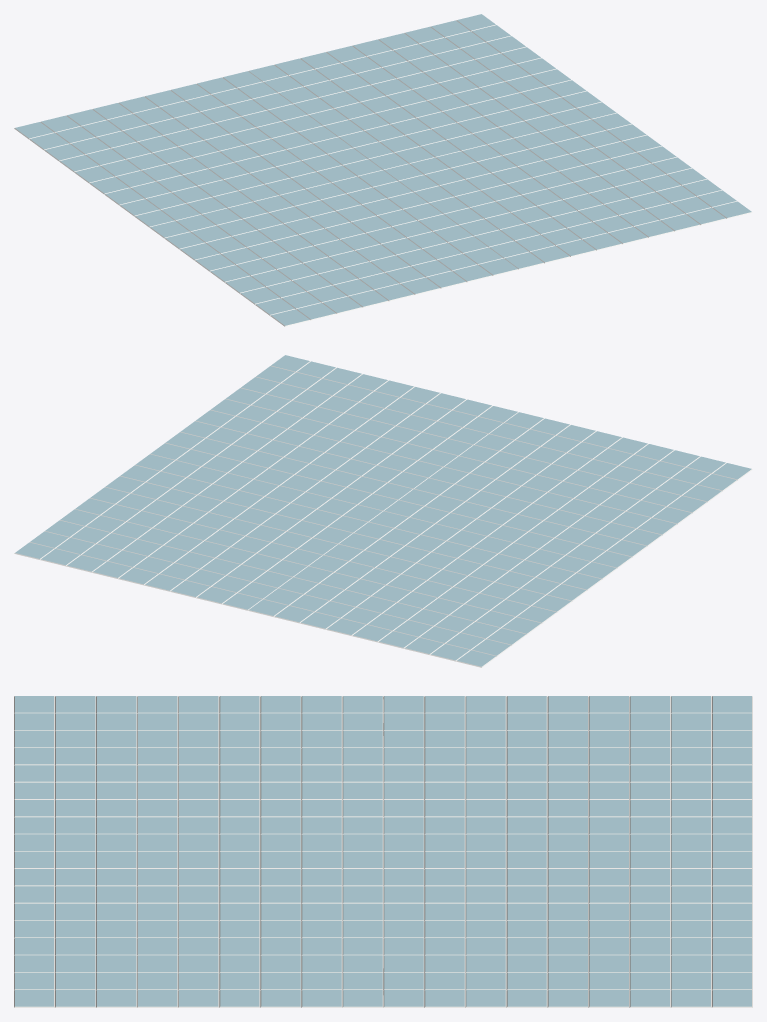
Rendered from Floortile_3.fbx.
3 renders of one model, top to bottom at view 1: azimuth 30°, elevation 25°; view 2: azimuth 150°, elevation 25°; view 3: azimuth 270°, elevation 25°, orthographic. The views are drawn at different scales.
Parts seen in each view (by area): view 1: Floortile_3; view 2: Floortile_3; view 3: Floortile_3.
Part boxes in pixels (box(x1,y1,x2,y2)): Floortile_3: box(14, 14, 752, 326); Floortile_3: box(14, 355, 752, 667); Floortile_3: box(14, 696, 752, 1007).
Size of the model in its own units: 486 by 487 by 0.7251.
